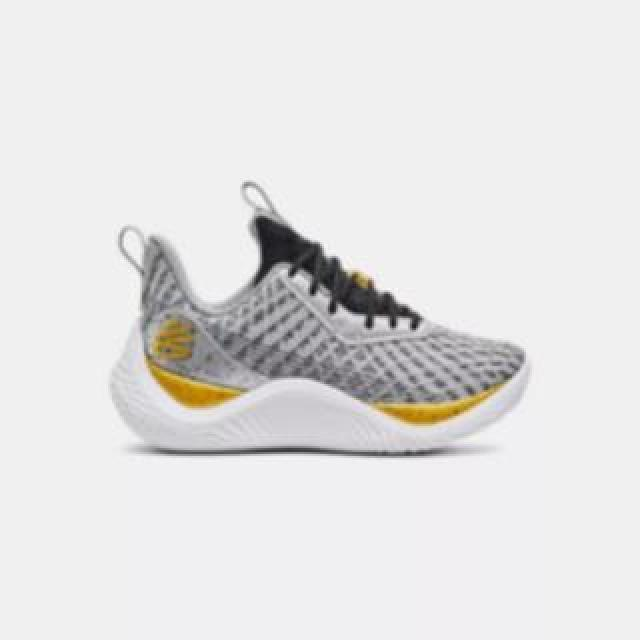shoes: (115, 179, 535, 455)
